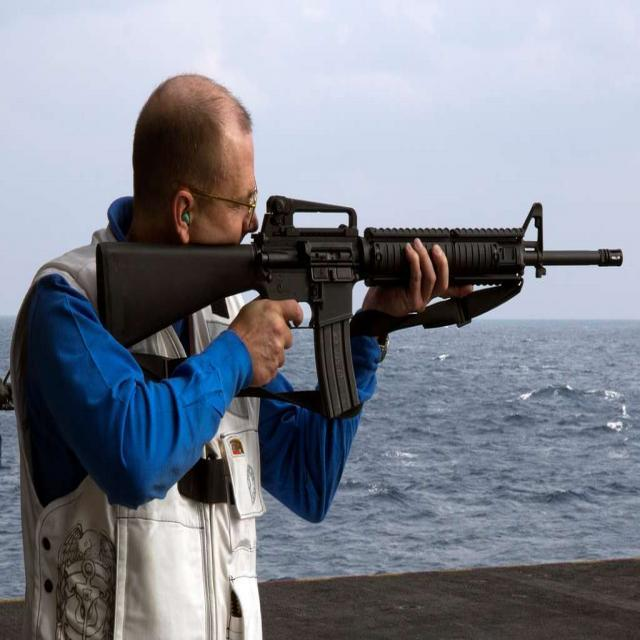m16: (90, 183, 628, 428)
